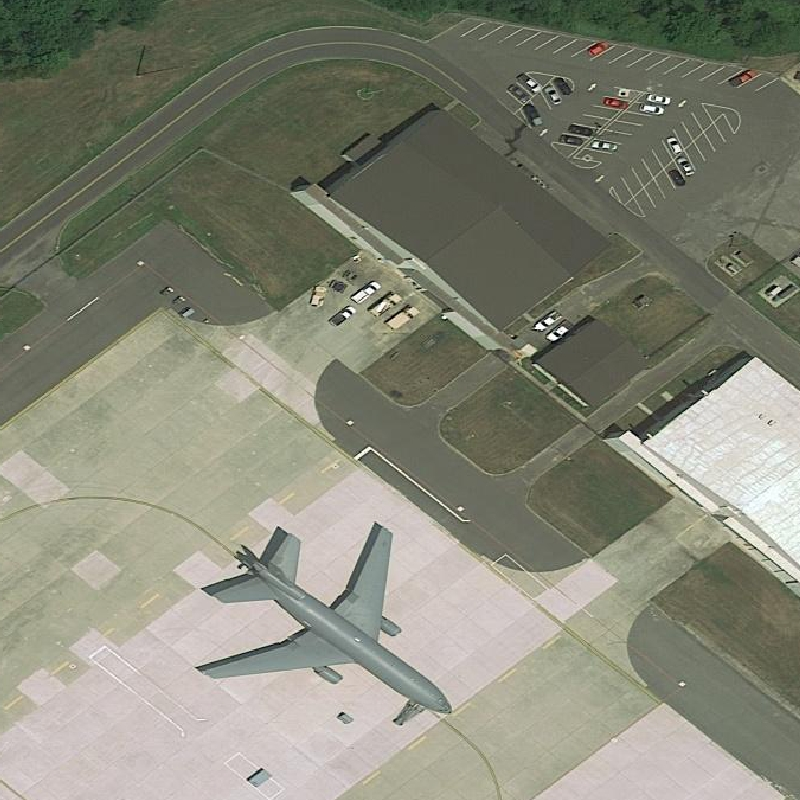A18: (188, 520, 457, 727)
